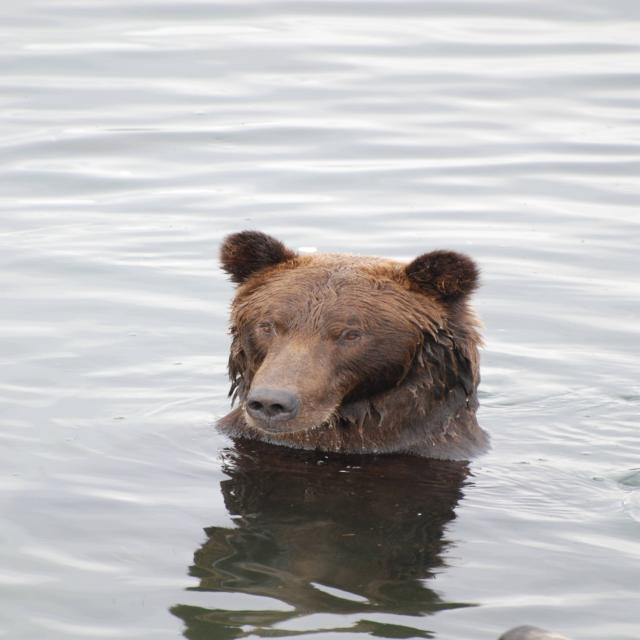bear face: (220, 230, 486, 460)
